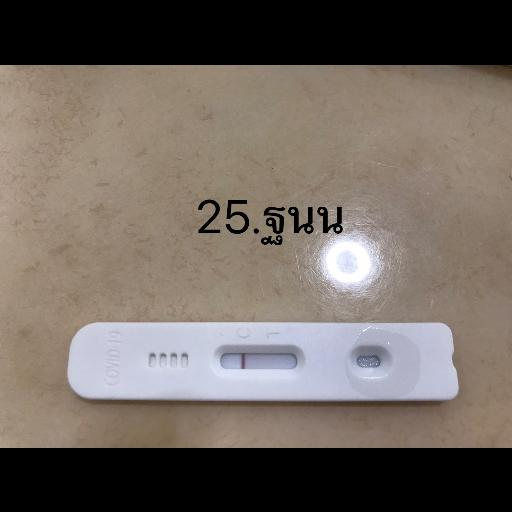Neg: (68, 322, 458, 398)
